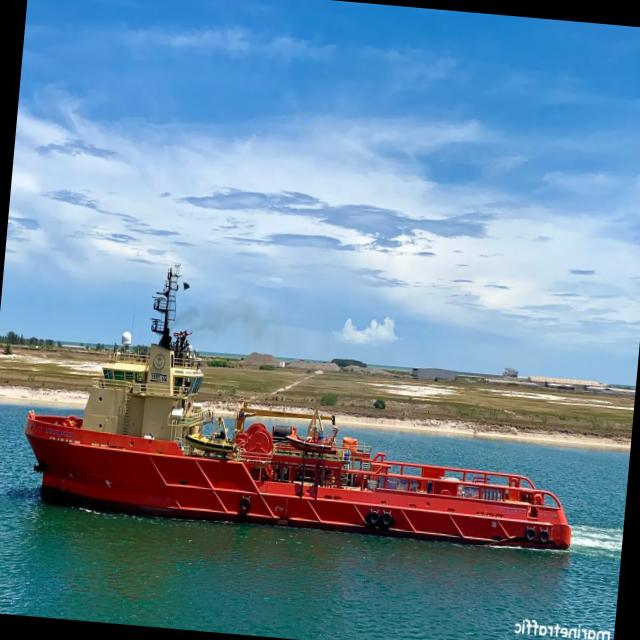Offshore: (24, 268, 571, 550)
